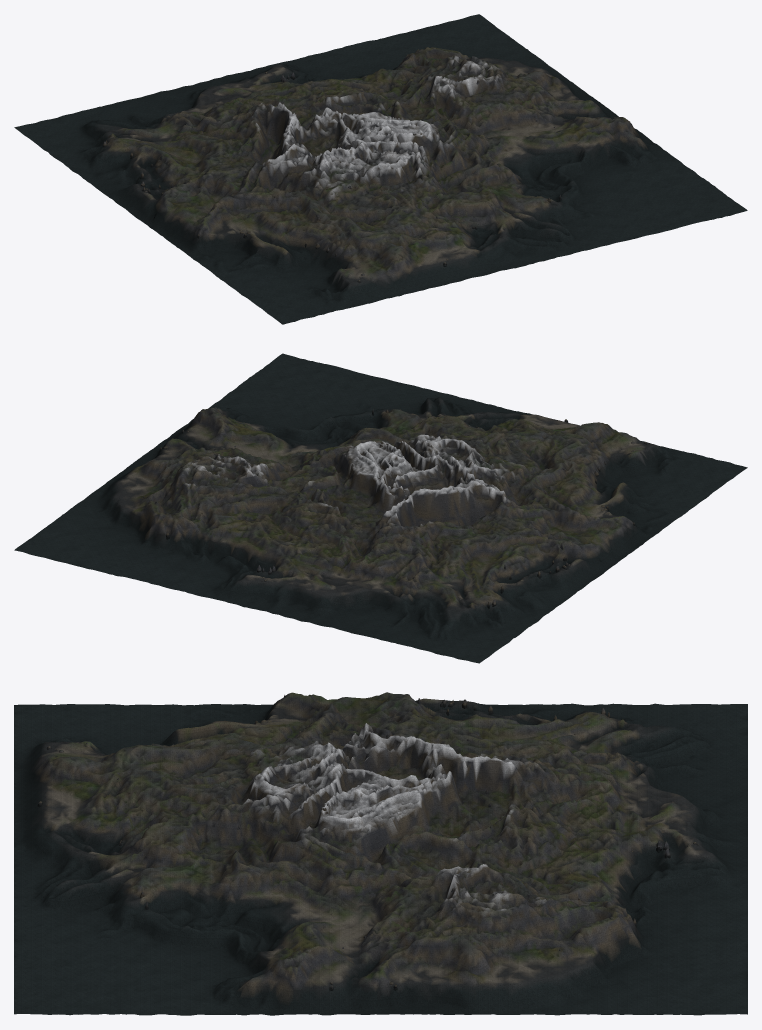
Rendered from island_b.glb.
3 views of the same model, one above another, from view 1: azimuth 30°, elevation 25°; view 2: azimuth 150°, elevation 25°; view 3: azimuth 270°, elevation 25° (orthographic). The views are drawn at different scales.
Parts seen in each view (by area): view 1: island_b_land, island_b_rocks; view 2: island_b_land, island_b_rocks; view 3: island_b_land, island_b_rocks.
Boxes of the visible parts, x1,y1,x2,y2 form: island_b_land: (14, 14, 747, 324); island_b_rocks: (102, 61, 615, 282); island_b_land: (14, 353, 747, 663); island_b_rocks: (140, 409, 646, 609); island_b_land: (14, 692, 747, 1015); island_b_rocks: (37, 695, 698, 990).
Size of the model in its own units: 5172 by 567 by 5172.
1 material, 1 textured.
